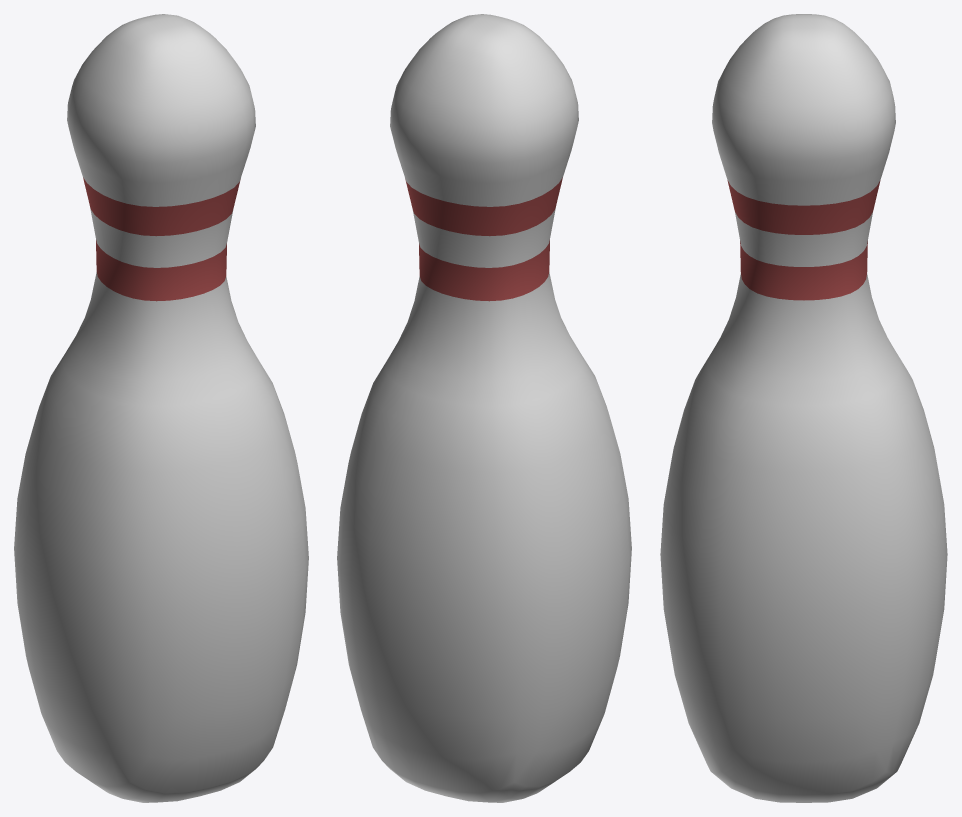
Rendered from Pin 1.fbx.
3 renders of one model, left to right at view 1: azimuth 30°, elevation 25°; view 2: azimuth 150°, elevation 25°; view 3: azimuth 270°, elevation 25°, orthographic.
Visible parts, largest first — view 1: pCube1; view 2: pCube1; view 3: pCube1.
Boxes of the visible parts, bbox=[...] form: pCube1: bbox=[14, 14, 308, 802]; pCube1: bbox=[337, 14, 631, 802]; pCube1: bbox=[660, 14, 947, 802].
Bounding box in the file's own units: 50.34 × 147 × 50.34.
